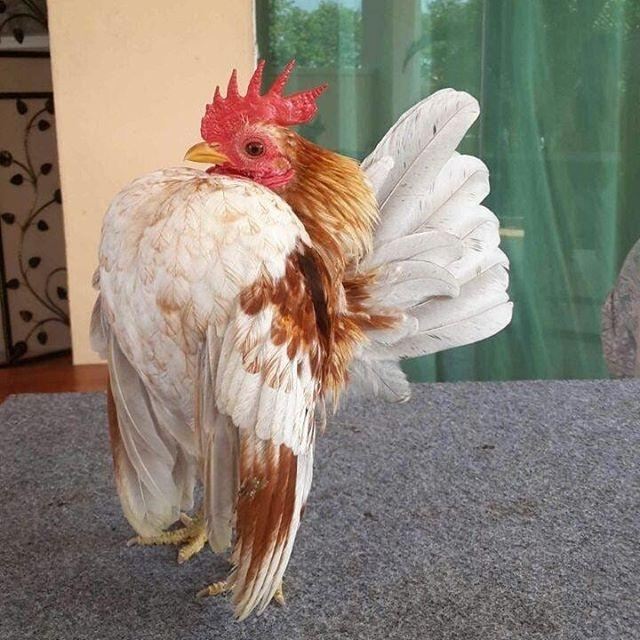Chicken: (88, 53, 515, 617)
